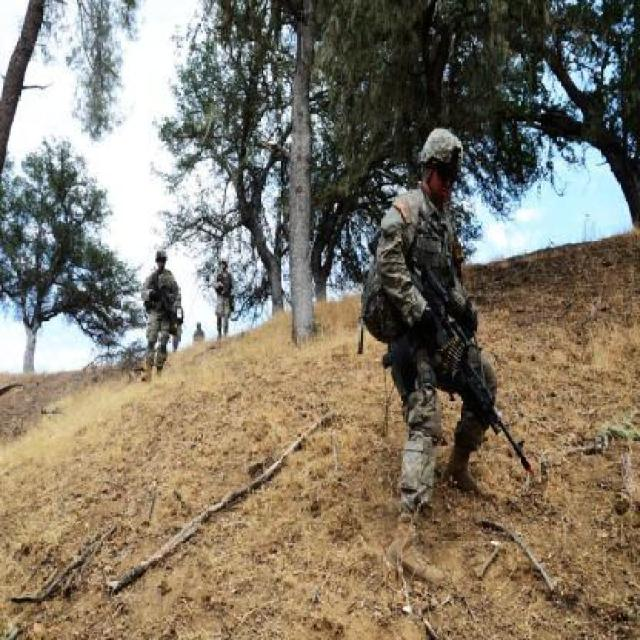backpack: (358, 228, 404, 354)
